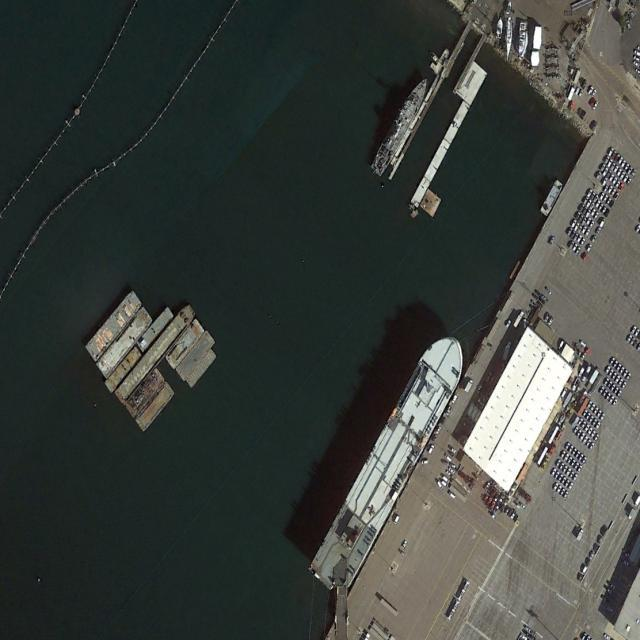Other Ship: (540, 178, 564, 218)
Other Warship: (369, 72, 432, 181)
RoRo: (307, 318, 474, 604)
